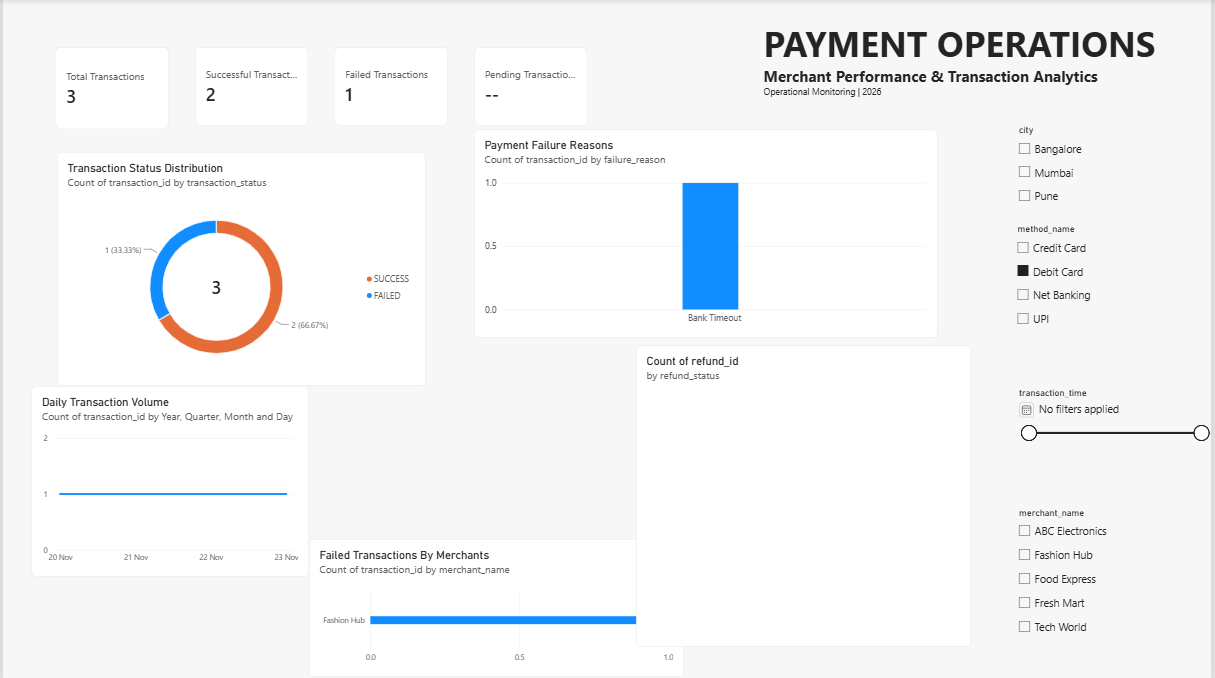

Layout of this report page (visuals, bound fields, positions):
{"tool":"powerbi","page":{"name":"Page 1","canvas":[1920,1080],"ordinal":0},"visuals":[{"type":"cardVisual","fields":{"Data":["public transactions.Total Transactions"]},"box":[83.8,77.5,180,131],"z":0},{"type":"cardVisual","fields":{"Data":["public transactions.Pending Transactions"]},"box":[750,77.5,180,125],"z":1000},{"type":"cardVisual","fields":{"Data":["public transactions.Successful Transactions"]},"box":[305,77.5,180,125],"z":2000},{"type":"cardVisual","fields":{"Data":["public transactions.Failed Transactions"]},"box":[526.2,77.5,180,125],"z":3000},{"type":"donutChart","title":"Transaction Status Distribution","fields":{"Category":["public transactions.transaction_status"],"Y":["CountNonNull(public transactions.transaction_id)"]},"box":[85.9,243.4,586.9,372.2],"z":4000},{"type":"lineChart","title":"Daily Transaction Volume","fields":{"Category":["public transactions.transaction_time.Variation.Date Hierarchy.Year","public transactions.transaction_time.Variation.Date Hierarchy.Quarter","public transactions.transaction_time.Variation.Date Hierarchy.Month","public transactions.transaction_time.Variation.Date Hierarchy.Day"],"Y":["CountNonNull(public transactions.transaction_id)"]},"box":[45.3,615.6,441.4,303],"z":5000},{"type":"clusteredBarChart","title":"Failed Transactions By Merchants","fields":{"Category":["public merchants.merchant_name"],"Y":["CountNonNull(public transactions.transaction_id)"]},"box":[486.7,858.9,596.5,219.5],"z":6000},{"type":"clusteredColumnChart","title":"Payment Failure Reasons","fields":{"Category":["public transactions.failure_reason"],"Y":["CountNonNull(public transactions.transaction_id)"]},"box":[749.2,207.6,737.2,331.6],"z":7000},{"type":"donutChart","fields":{"Category":["public refunds.refund_status"],"Y":["CountNonNull(public refunds.refund_id)"]},"box":[1083.2,539.2,532.1,479.6],"z":8000},{"type":"slicer","fields":{"Values":["public merchants.merchant_name"]},"box":[1608.1,808.8,314,221],"z":9000},{"type":"slicer","fields":{"Values":["public merchants.city"]},"box":[1608.1,200.4,314.9,157.5],"z":10000},{"type":"slicer","fields":{"Values":["public payment_methods.method_name"]},"box":[1605.7,357.9,314,299],"z":11000},{"type":"slicer","fields":{"Values":["public transactions.transaction_time"]},"box":[1608.1,618,314,221],"z":12000},{"type":"textbox","box":[1210,30,710,212.5],"z":13000}]}

Visuals, with their boxes in screenshot pixels (x1, y1, x2, y2), scaled from the page's 1920x1080 canvas onto the 1215x678 screenshot:
cardVisual - public transactions.Total Transactions: (53,49,167,131)
cardVisual - public transactions.Pending Transactions: (475,49,589,127)
cardVisual - public transactions.Successful Transactions: (193,49,307,127)
cardVisual - public transactions.Failed Transactions: (333,49,447,127)
"Transaction Status Distribution" donutChart: (54,153,426,386)
"Daily Transaction Volume" lineChart: (29,386,308,577)
"Failed Transactions By Merchants" clusteredBarChart: (308,539,685,677)
"Payment Failure Reasons" clusteredColumnChart: (474,130,941,338)
donutChart - public refunds.refund_status x CountNonNull(public refunds.refund_id): (685,338,1022,640)
slicer - public merchants.merchant_name: (1018,508,1214,646)
slicer - public merchants.city: (1018,126,1214,225)
slicer - public payment_methods.method_name: (1016,225,1214,412)
slicer - public transactions.transaction_time: (1018,388,1214,527)
textbox: (766,19,1214,152)
